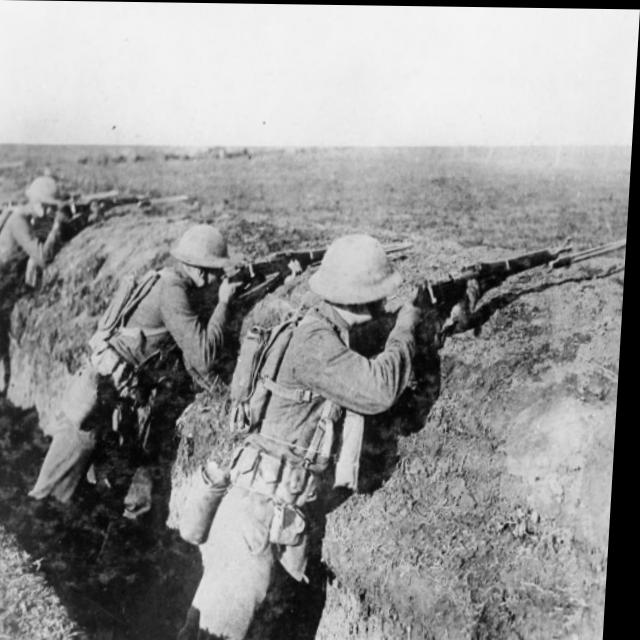other: (233, 225, 427, 562), (81, 220, 245, 512), (0, 180, 62, 341)
